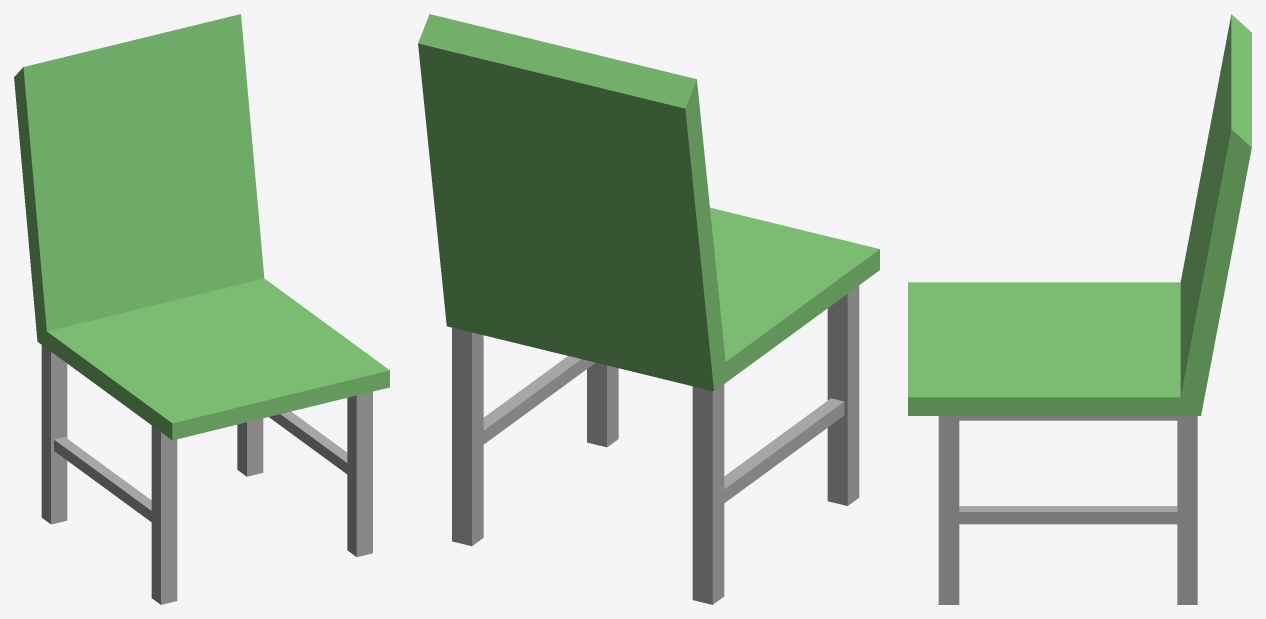
Rendered from Chair6.fbx.
3 views of the same model, side by side, from view 1: azimuth 30°, elevation 25°; view 2: azimuth 150°, elevation 25°; view 3: azimuth 270°, elevation 25° (orthographic). The views are drawn at different scales.
Visible parts, largest first — view 1: Cube; view 2: Cube; view 3: Cube.
Boxes of the visible parts, x1=… form: Cube: x1=14, y1=14, x2=389, y2=604; Cube: x1=418, y1=14, x2=879, y2=604; Cube: x1=908, y1=14, x2=1251, y2=604.
Bounding box in the file's own units: 0.76 × 1.47 × 0.9587.
